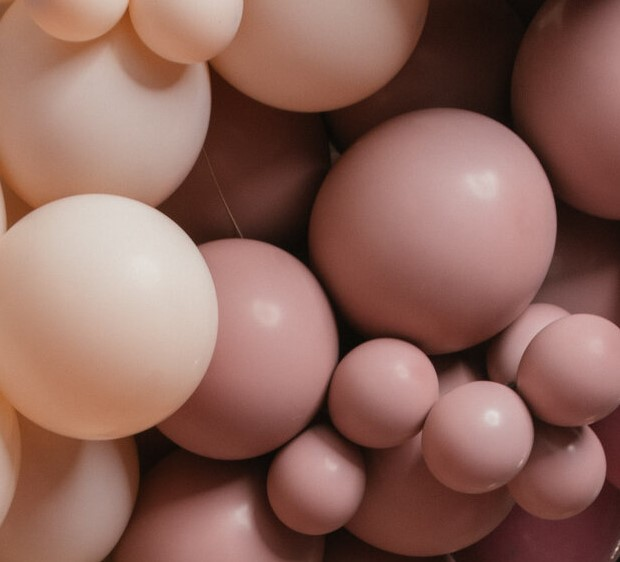Balloon: (312, 107, 555, 345), (1, 194, 223, 443), (420, 381, 533, 495), (330, 338, 438, 449), (519, 313, 620, 426), (270, 429, 364, 530)
